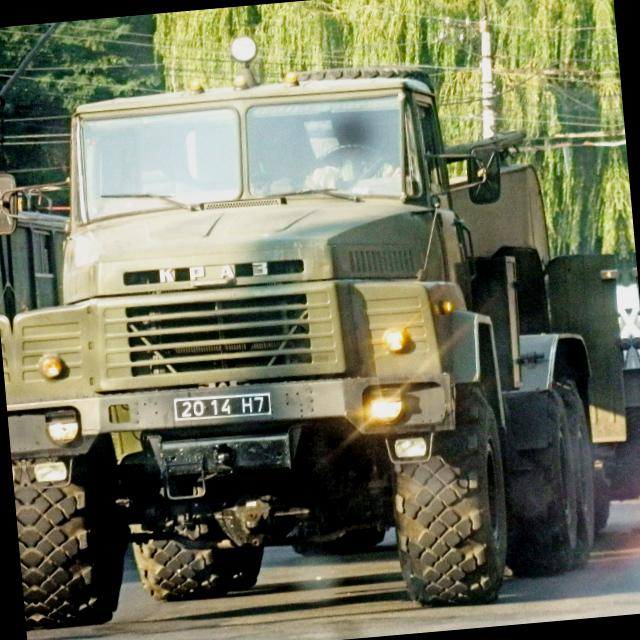military: (162, 384, 276, 430)
